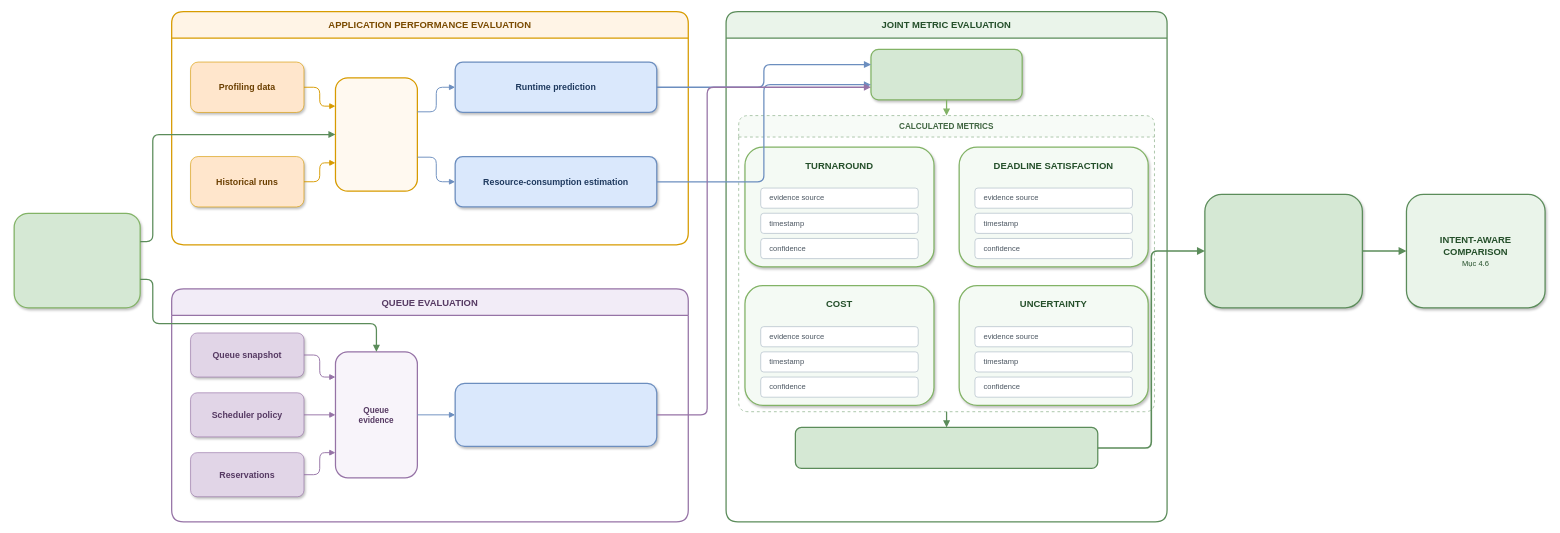
This 1560x533 diagram has some shape labels left out. The centre of each missing label's shape, as x and y in pixels:
"EVALUATED PROFILES metrics + evidence + uncertainty" goes at (x=1283, y=251).
"Evidence fusion performance + queue state" goes at (x=947, y=75).
"FEASIBLE PROFILES from feasibility validation" goes at (x=77, y=261).
"Metric package with provenance" goes at (x=946, y=448).
"Performance evidence" goes at (x=376, y=134).
"Waiting-time prediction or simulation" goes at (x=556, y=415).
